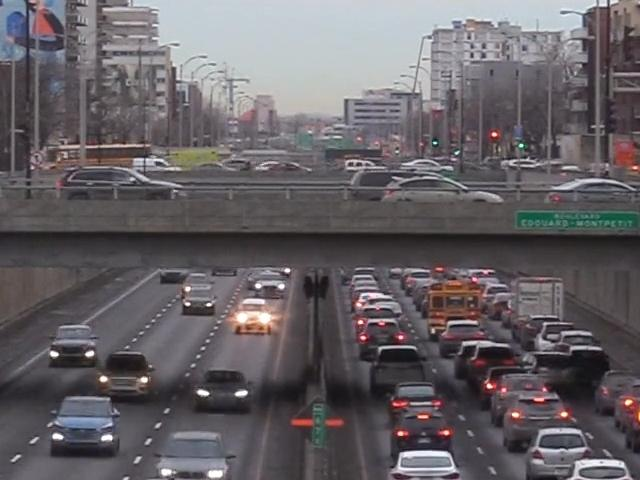car: (53, 395, 124, 459), (57, 166, 185, 200), (499, 395, 574, 453), (533, 335, 608, 392), (162, 430, 234, 480), (457, 341, 522, 395), (390, 408, 455, 460), (367, 342, 429, 395), (528, 430, 593, 480), (387, 381, 446, 431), (101, 351, 158, 402), (396, 180, 508, 205), (196, 369, 255, 415), (389, 450, 470, 480), (546, 178, 640, 203), (593, 370, 640, 418), (436, 320, 489, 361), (52, 324, 100, 366), (510, 308, 558, 348), (346, 167, 401, 200), (357, 316, 406, 351), (231, 297, 276, 335), (355, 295, 401, 328), (561, 461, 640, 480), (617, 394, 640, 456), (180, 278, 218, 315), (466, 269, 504, 301), (248, 270, 289, 299), (401, 270, 436, 299), (482, 294, 514, 324), (349, 269, 381, 296), (252, 160, 309, 174), (218, 158, 253, 172), (158, 268, 188, 284), (262, 265, 293, 280), (212, 265, 238, 277)
